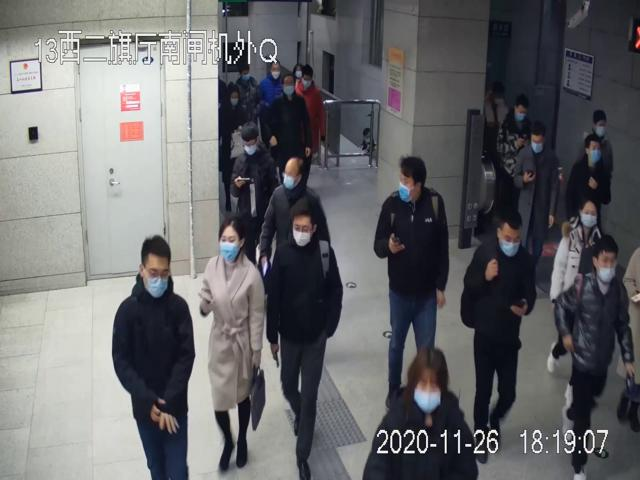person: (267, 198, 345, 480), (111, 233, 196, 480), (556, 234, 636, 480), (461, 205, 537, 462), (375, 156, 450, 412), (198, 215, 268, 476), (548, 196, 611, 405), (514, 123, 559, 285), (230, 123, 278, 268), (266, 72, 311, 177)
